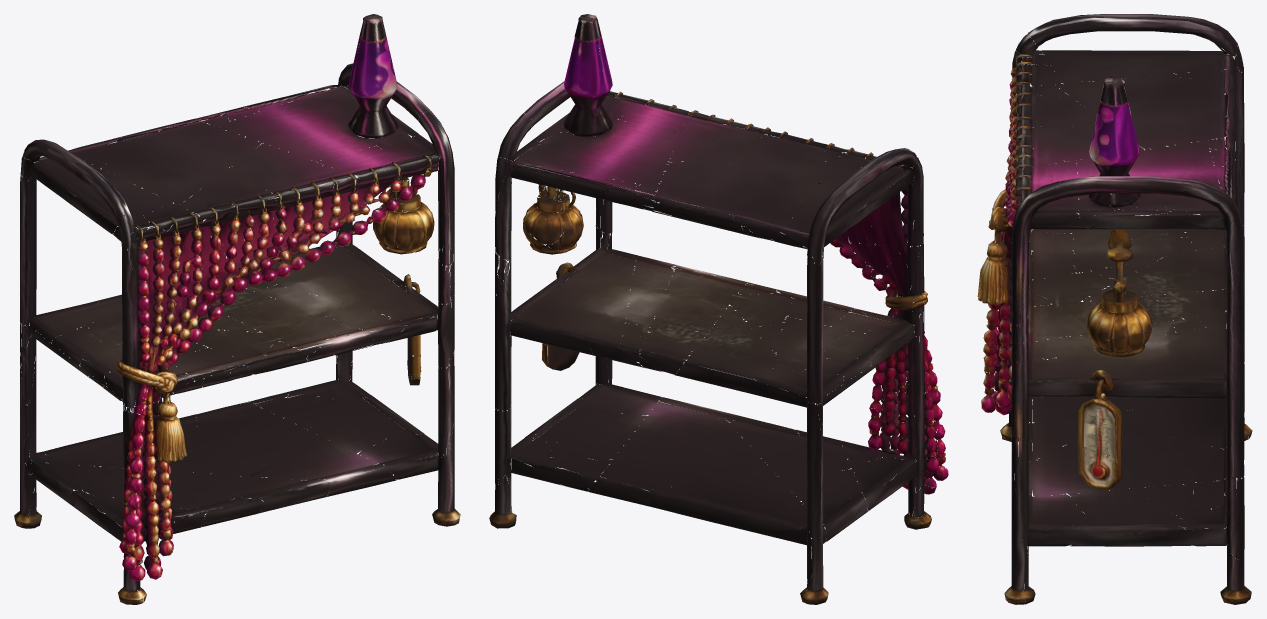
Rendered from myco.glb.
The picture shows the model from 3 angles, left to right: view 1: azimuth 30°, elevation 25°; view 2: azimuth 150°, elevation 25°; view 3: azimuth 270°, elevation 25°; orthographic projection. The views are drawn at different scales.
Parts seen in each view (by area): view 1: tripo_node_cdd4fb01-d094-4a22-919c-7d6628746530; view 2: tripo_node_cdd4fb01-d094-4a22-919c-7d6628746530; view 3: tripo_node_cdd4fb01-d094-4a22-919c-7d6628746530.
Part boxes in pixels (x1=…): tripo_node_cdd4fb01-d094-4a22-919c-7d6628746530: x1=14, y1=14, x2=460, y2=604; tripo_node_cdd4fb01-d094-4a22-919c-7d6628746530: x1=489, y1=14, x2=948, y2=604; tripo_node_cdd4fb01-d094-4a22-919c-7d6628746530: x1=977, y1=14, x2=1252, y2=604.
Size of the model in its own units: 0.8227 by 1 by 0.4946.
1 material, 1 textured.
